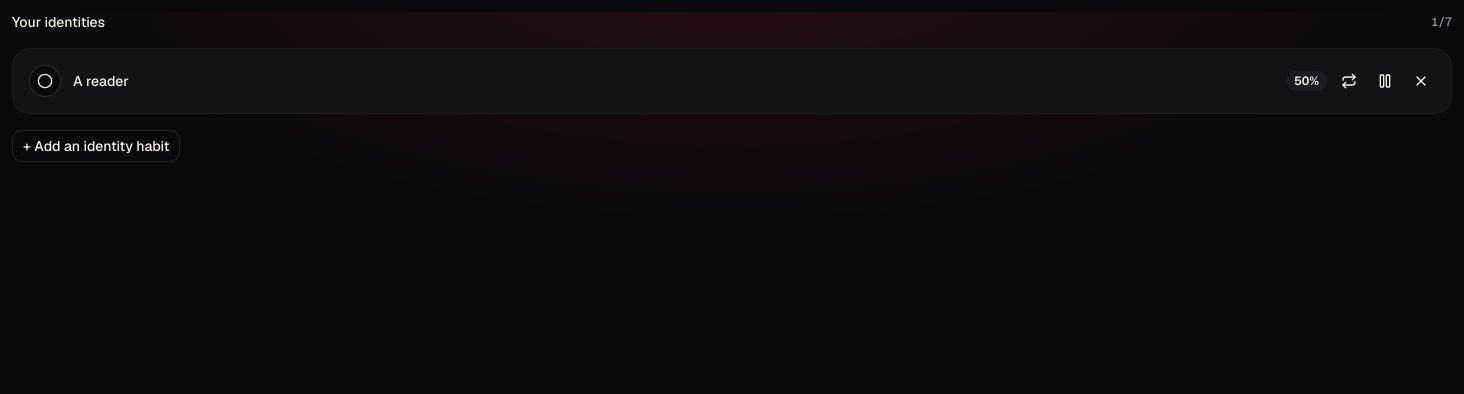
it: HabitList — cadence (HABIT-FREQ) › changing 'how often' on a row saves it, updates the row, and shows an invalid choice as unsavable
The width and height of the screenshot is (1464, 394).
Click the button named "Change how often" at (1349, 81), box [1335, 67, 1363, 95]
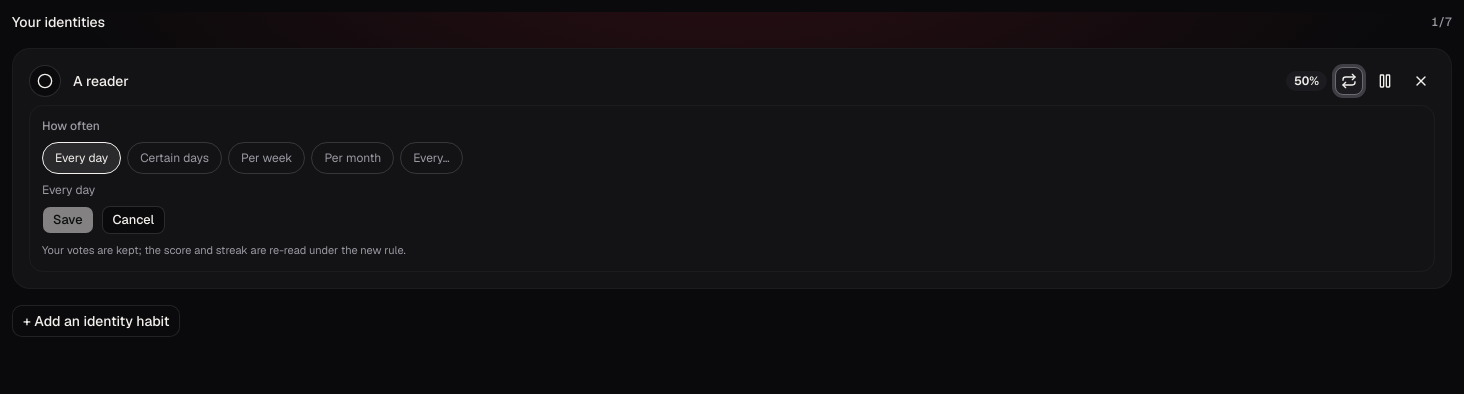
Expected: the button "Save" is disabled, [42, 206, 94, 234]
Click the radio button labelled "Per month" at (353, 158), box [311, 142, 394, 174]
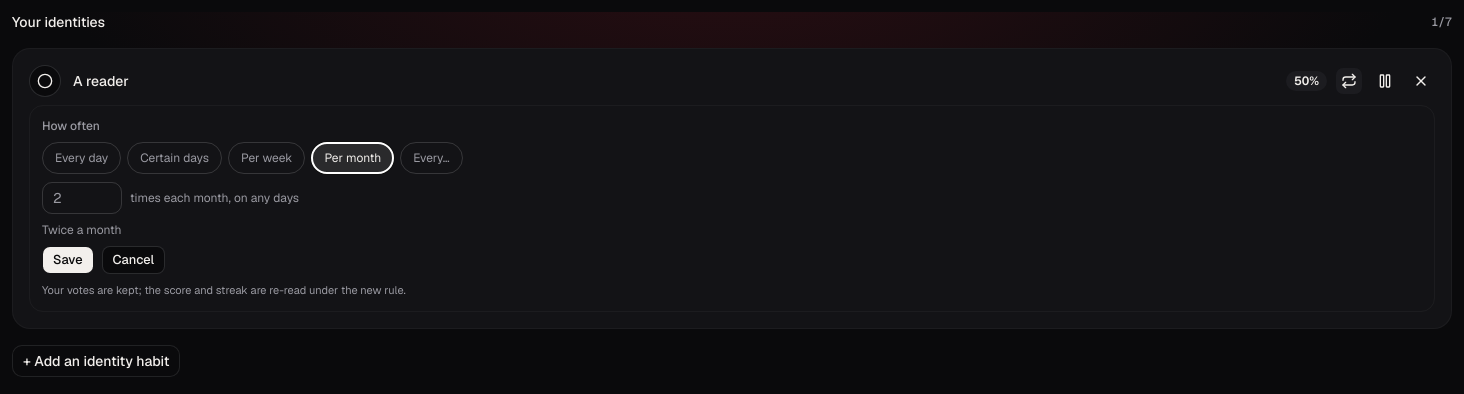
Replace the text in the number field named "Times per month" with "40" at (82, 198), box [42, 182, 122, 214]
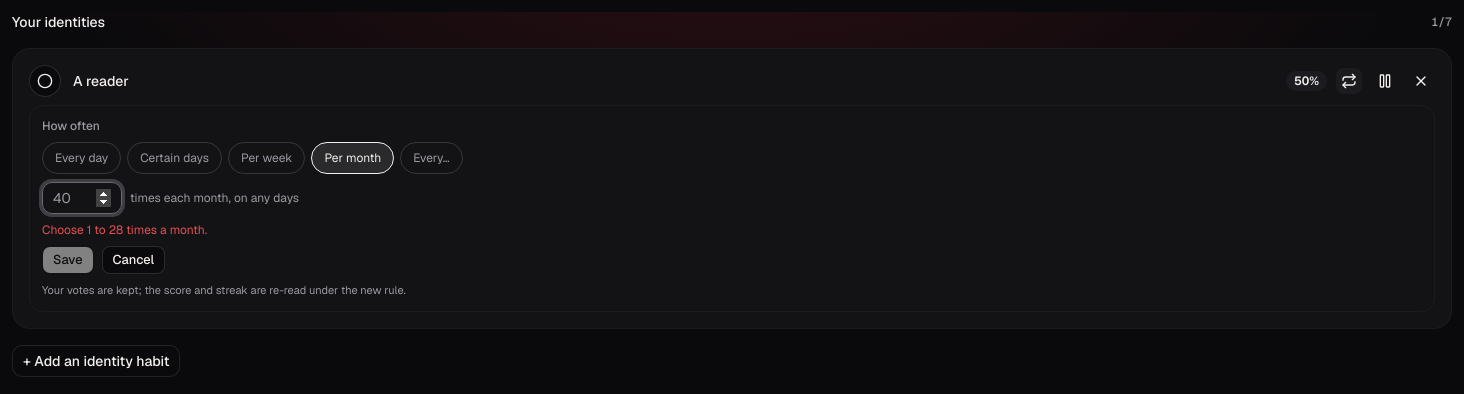
Expected: the button "Save" is disabled, [42, 246, 94, 274]
Replace the text in the number field named "Times per month" with "4" at (82, 198), box [42, 182, 122, 214]
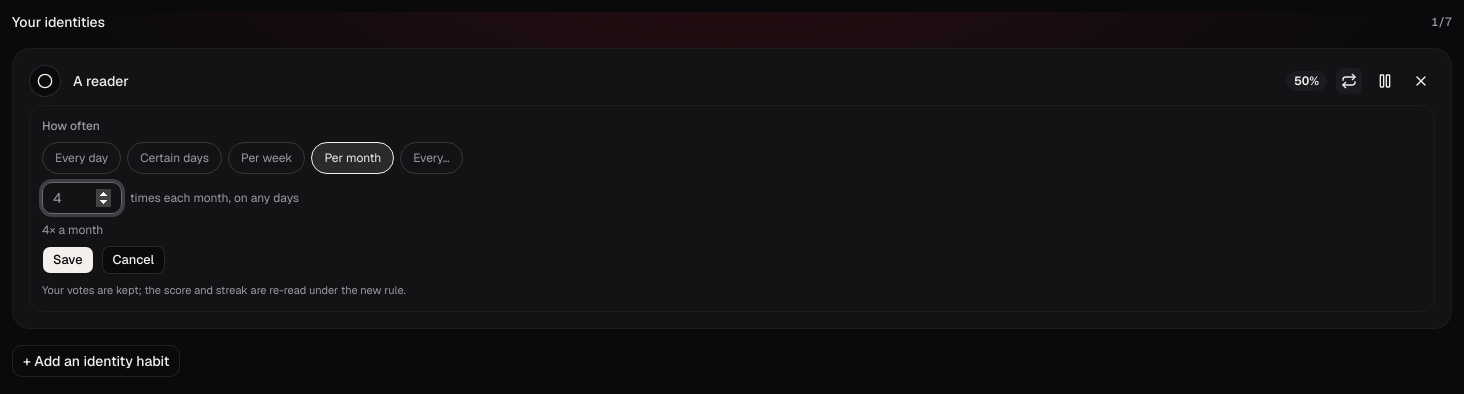
Click the button "Save" at (68, 260), box [42, 246, 94, 274]
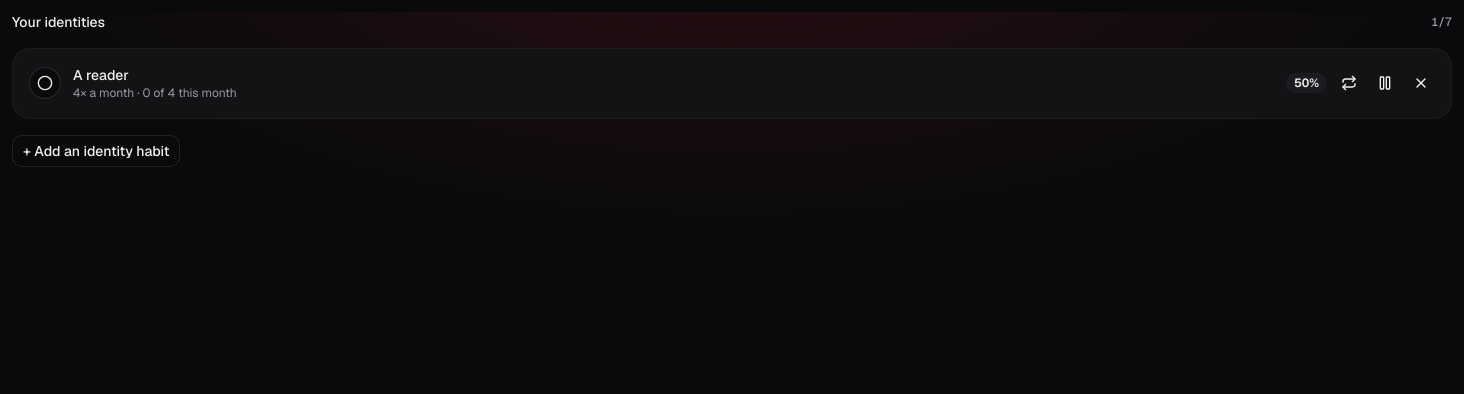
Expected: the text with test id "habit-cadence" shows "4× a month", [73, 85, 237, 101]
Expected: the element with test id "habit-frequency-editor" is gone
